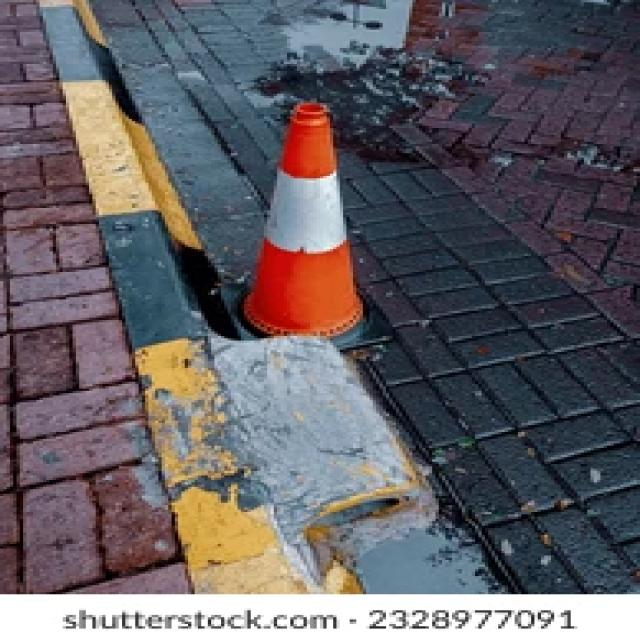Traffic Cone: (208, 74, 411, 374)
